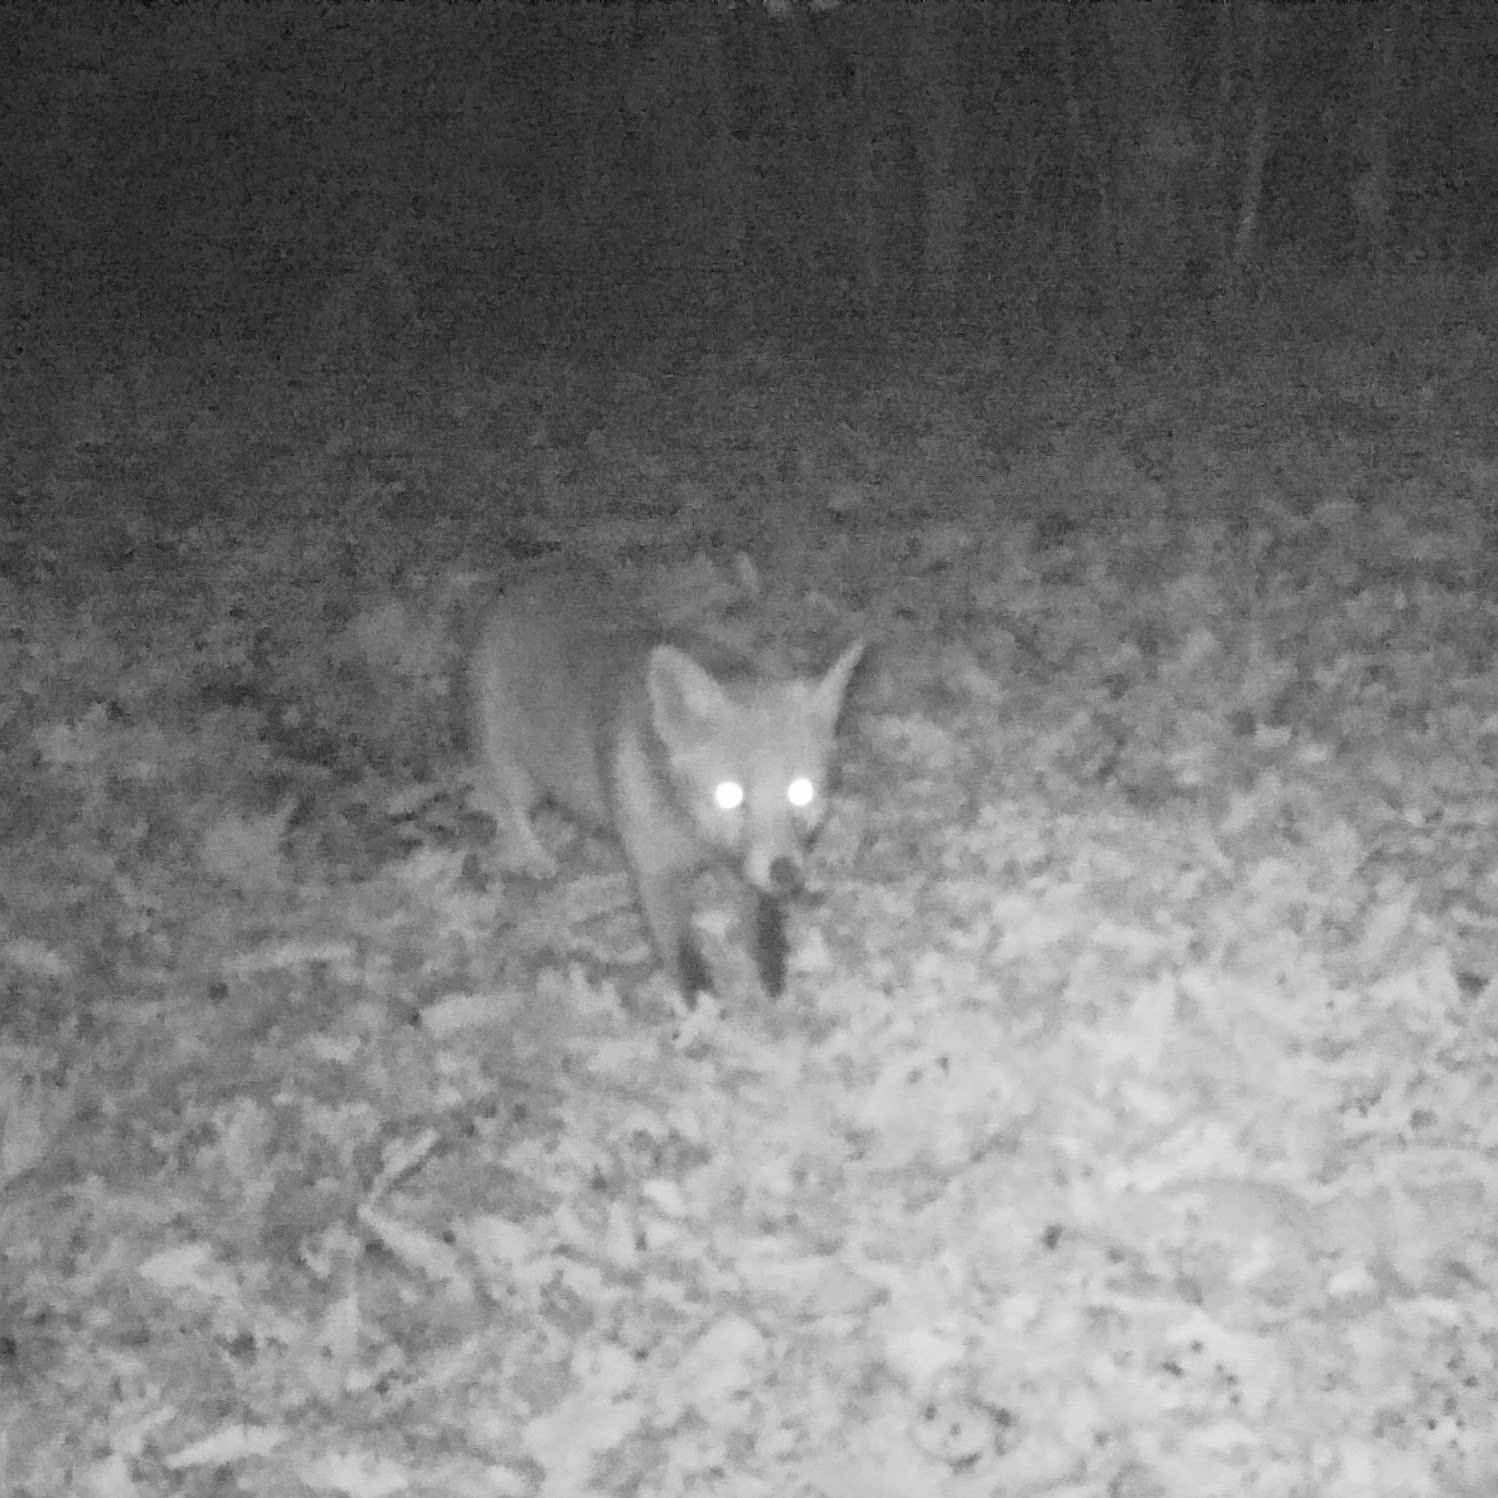fox: (391, 497, 899, 1060)
